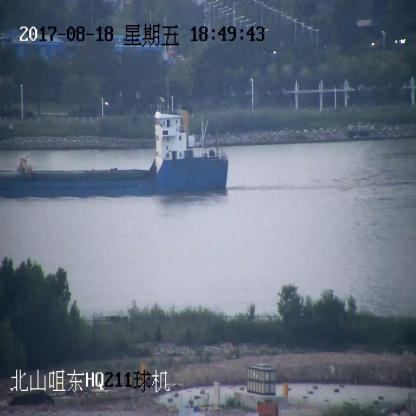Bulk Carrier: (0, 100, 228, 196)
